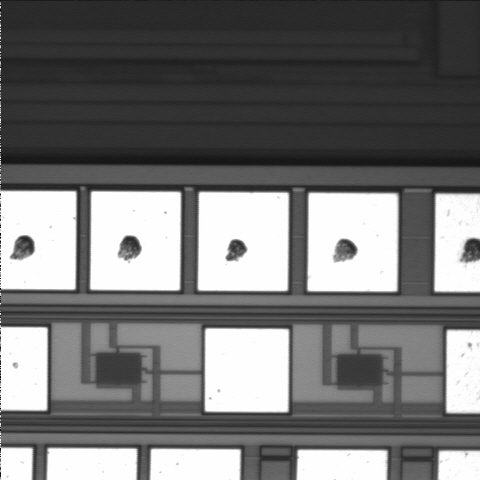pad: (90, 192, 181, 290), (198, 192, 288, 291), (308, 193, 398, 291), (205, 329, 289, 412)
